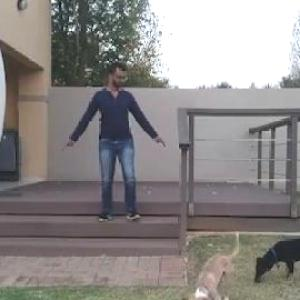land: (70, 65, 161, 235)
